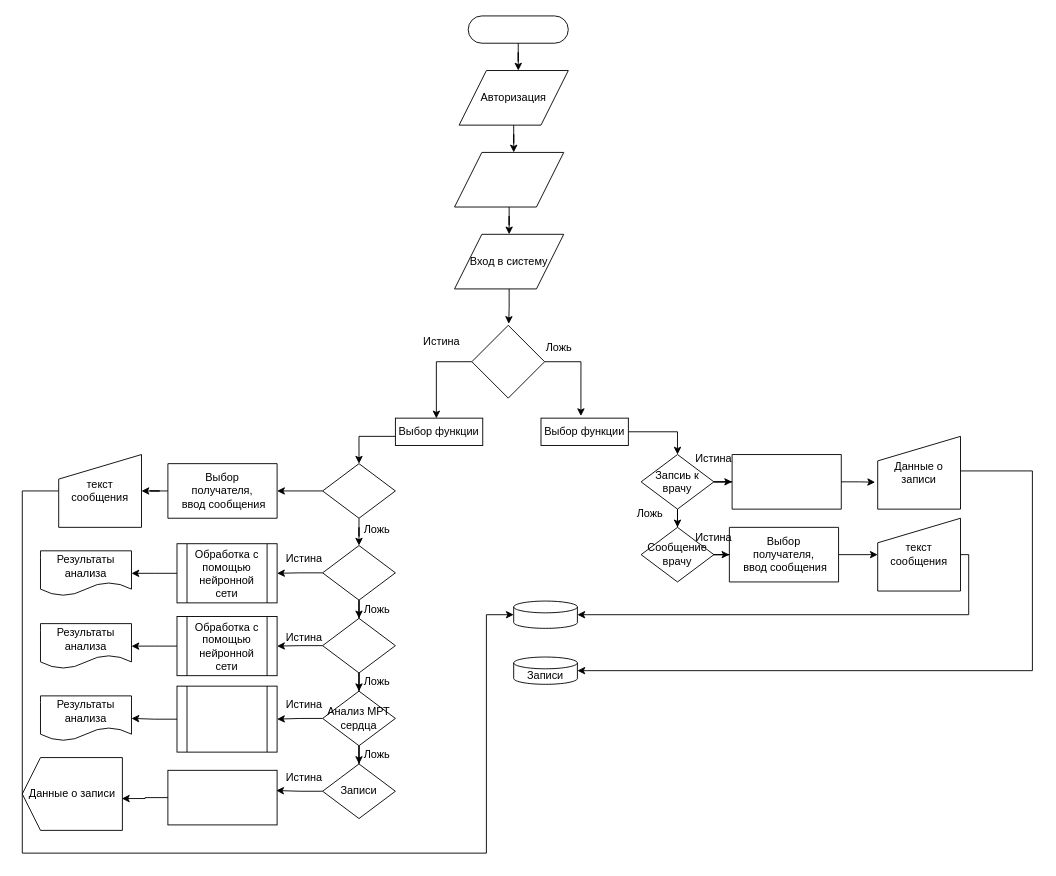
This 1056x876 diagram has some shape labels left out. The centre of each missing label's shape, as x and y in pixels:
"Анализ МРТ снимков" goes at (358,645).
"Анализ ФЛГ снимков" goes at (358,572).
"Врач?" goes at (508,361).
"Выбор даты, врача и кабинета" goes at (786,481).
"Начало" goes at (517,29).
"Обработка с помощью методов машинного обучения" goes at (226,718).
"Проверка пользователя" goes at (509,179).
"Сообщение пациенту" goes at (358,490).
"Сообщения" goes at (545,614).
"Уведомление о записи" goes at (222,797).
